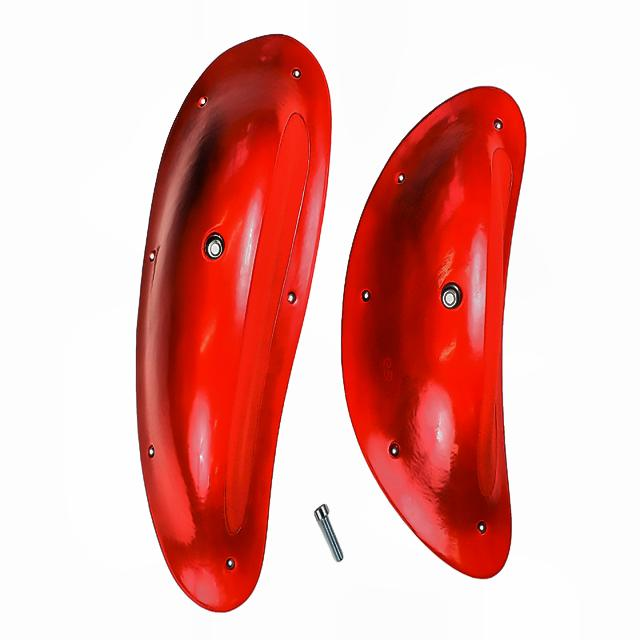Hold: (136, 36, 330, 613), (340, 82, 530, 582)
